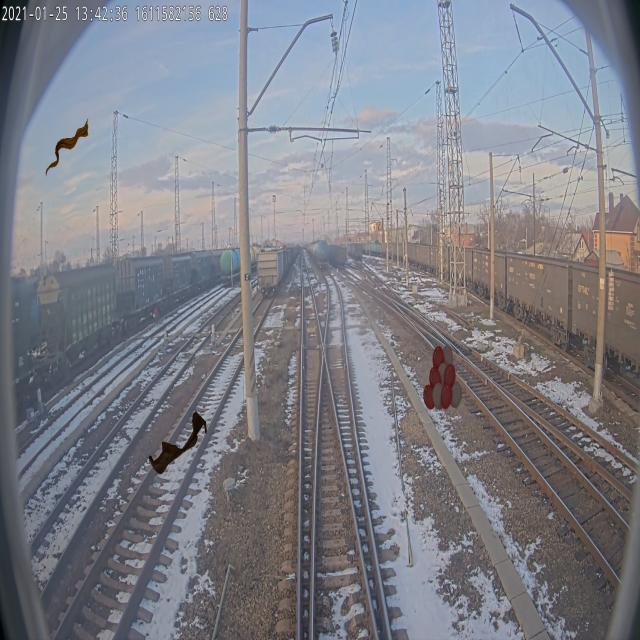balloon: (423, 346, 462, 410)
floating object: (149, 410, 207, 474), (44, 115, 89, 179)
